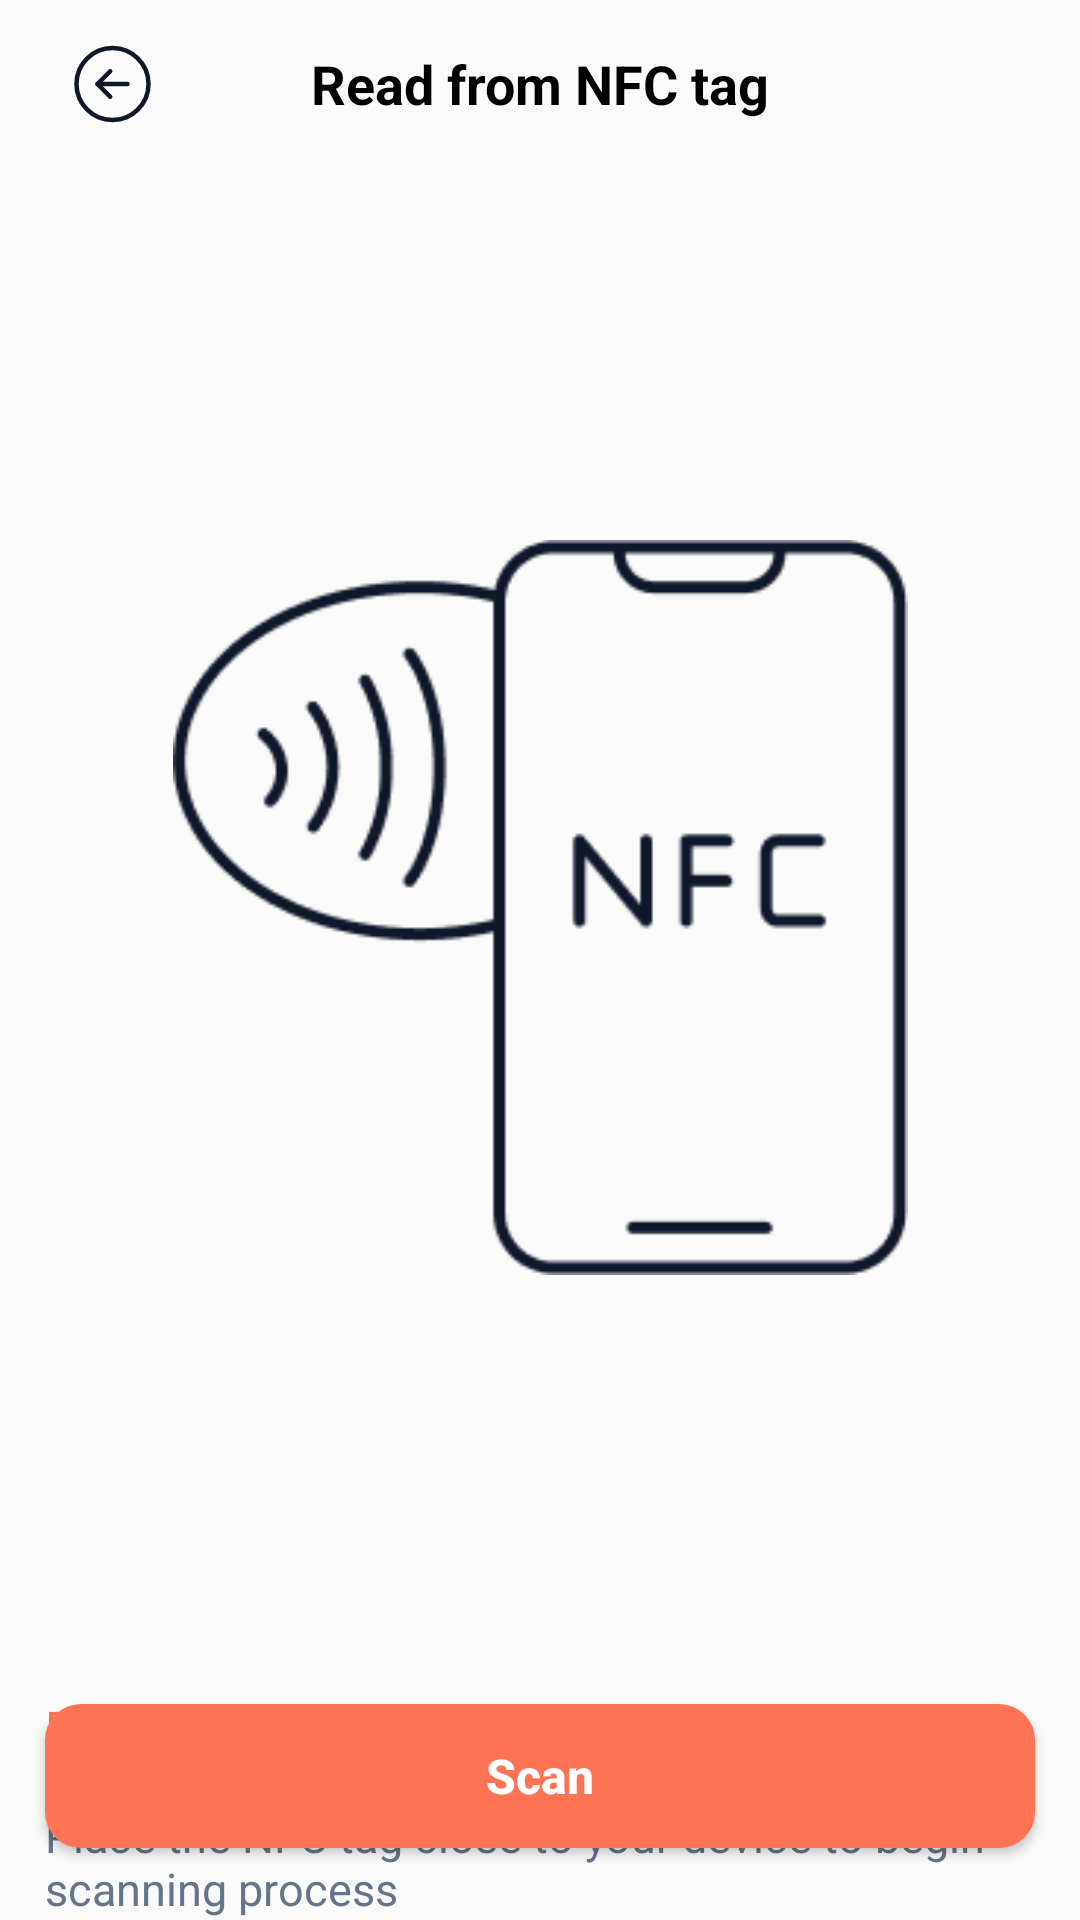

Where icons sit on this 1080x1920 app screen, as (x1, y1, x2, y2):
back: (74, 45, 151, 123)
